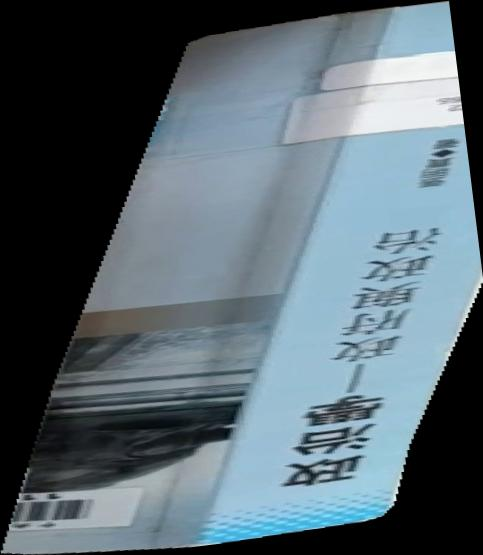reverse: (1, 1, 483, 555)
